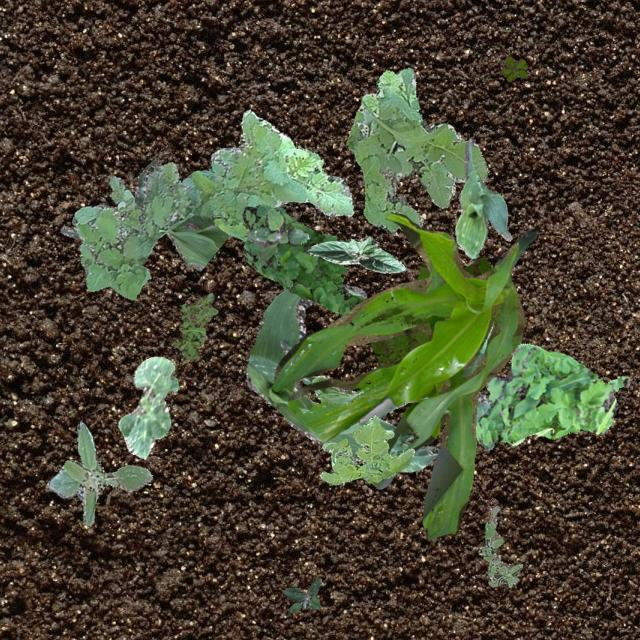crop: (272, 212, 524, 538), (244, 284, 438, 470), (60, 156, 228, 270), (458, 226, 538, 448), (278, 338, 412, 439), (454, 138, 512, 258), (116, 356, 178, 458), (304, 234, 406, 272)
weed: (70, 109, 352, 298), (346, 66, 488, 232), (474, 342, 630, 444), (361, 256, 492, 371), (242, 204, 366, 324), (46, 422, 152, 526), (318, 414, 414, 484), (478, 504, 522, 586), (170, 293, 217, 362), (246, 208, 308, 260), (282, 576, 320, 612), (501, 56, 526, 80)
